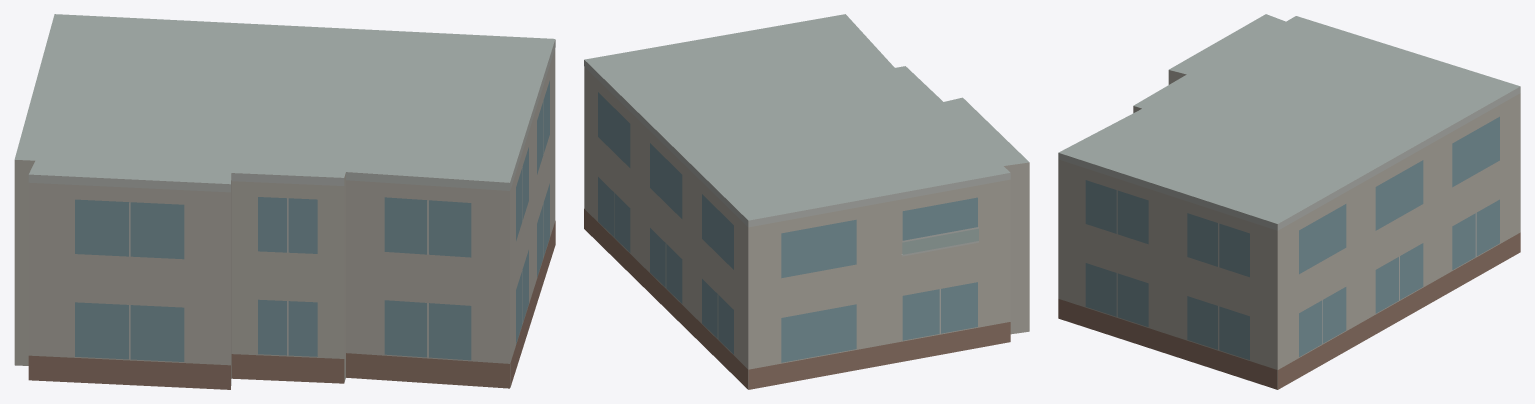
Rendered from survey-upis-32862913.glb.
3 views of the same model, side by side, from view 1: azimuth 30°, elevation 25°; view 2: azimuth 150°, elevation 25°; view 3: azimuth 270°, elevation 25° (orthographic). The views are drawn at different scales.
Visible parts, largest first — view 1: survey-upis-32862913.tmp; view 2: survey-upis-32862913.tmp; view 3: survey-upis-32862913.tmp.
Part boxes in pixels (<box>): survey-upis-32862913.tmp: <box>14,14,555,389</box>; survey-upis-32862913.tmp: <box>584,14,1029,389</box>; survey-upis-32862913.tmp: <box>1058,14,1520,389</box>.
Bounding box in the file's own units: 16.59 × 6.1 × 15.43.
